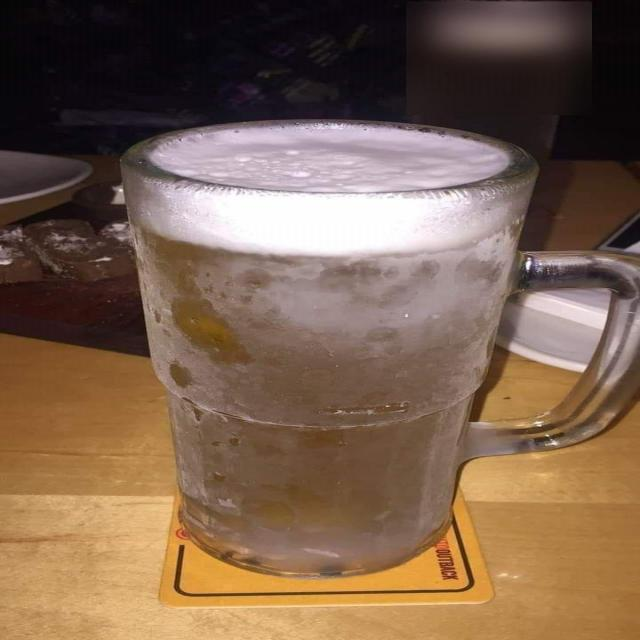glass-mug: (110, 113, 639, 582)
